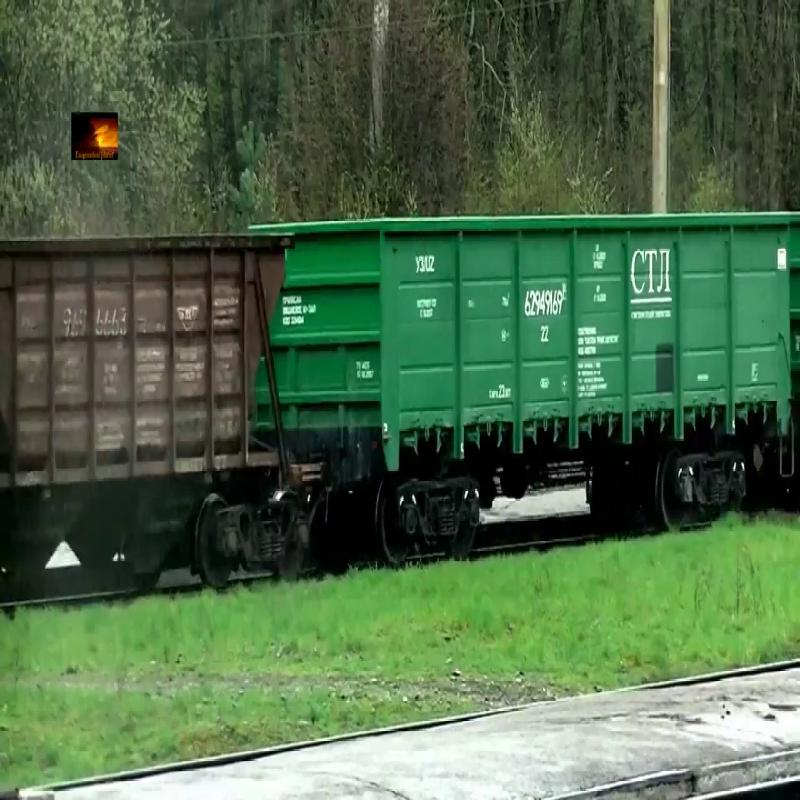train: (266, 203, 793, 484), (1, 224, 299, 496)
